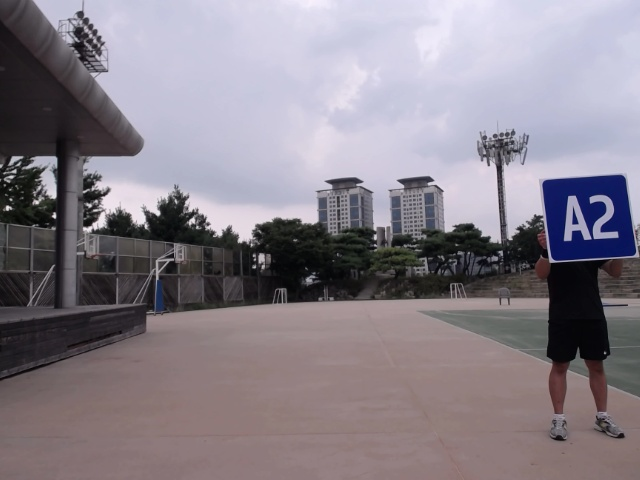delivery_a2: (541, 174, 638, 263)
